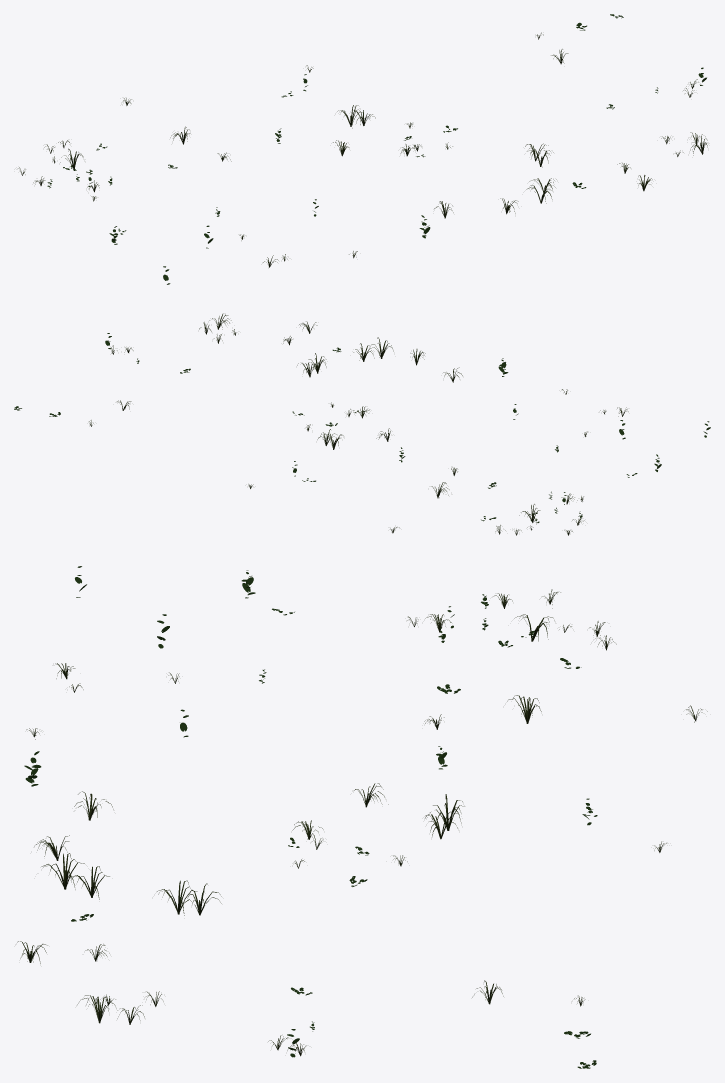
File: weeds_+00-02_foliage.dae
3 views of the same model, one above another, from view 1: azimuth 30°, elevation 25°; view 2: azimuth 150°, elevation 25°; view 3: azimuth 270°, elevation 25° (orthographic). The views are drawn at different scales.
Parts seen in each view (by area): view 1: weeds_+00-02_foliage; view 2: weeds_+00-02_foliage; view 3: weeds_+00-02_foliage.
Boxes of the visible parts, x1,y1,x2,y2 form: weeds_+00-02_foliage: [18, 14, 707, 284]; weeds_+00-02_foliage: [14, 313, 710, 535]; weeds_+00-02_foliage: [17, 566, 707, 1068].
Bounding box in the file's own units: 9.8 × 6.07 × 0.4504.
